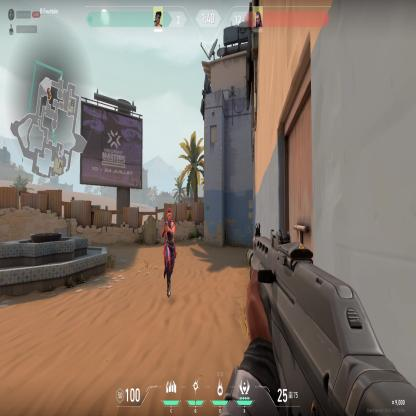enemy: (160, 206, 178, 301)
